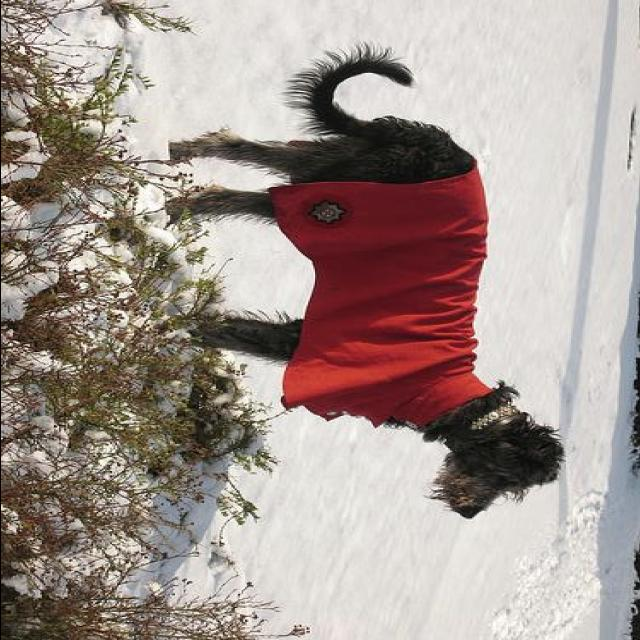irish_wolfhound: (162, 46, 565, 518)
